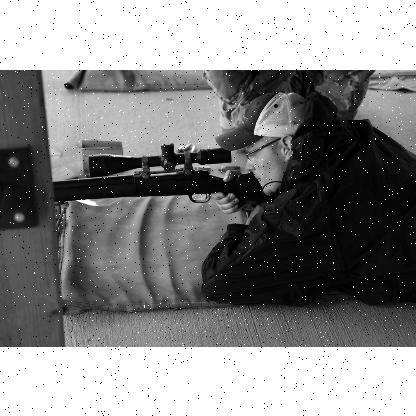gun: (51, 138, 274, 206)
